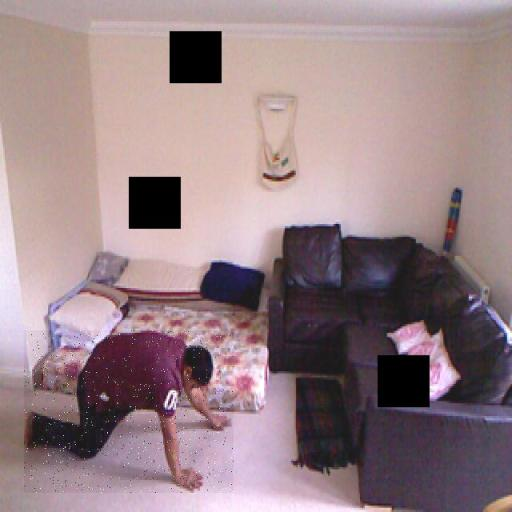Fall: (24, 330, 234, 493)
